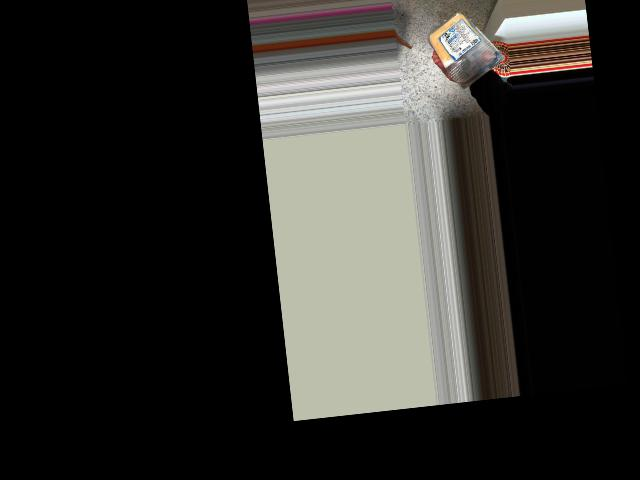cheese: (434, 5, 499, 81)
